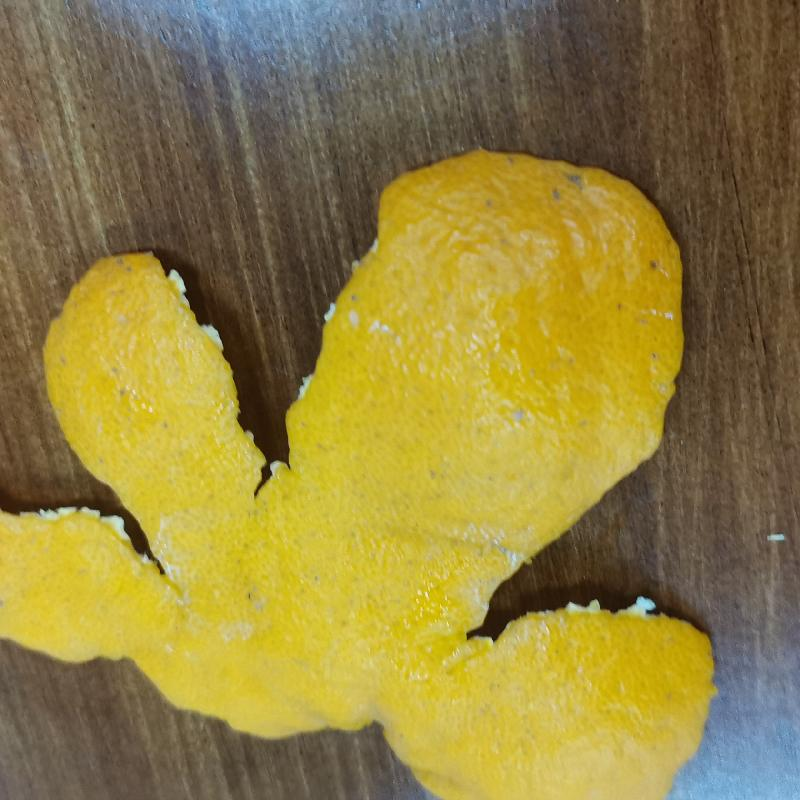orange: (4, 147, 723, 800)
